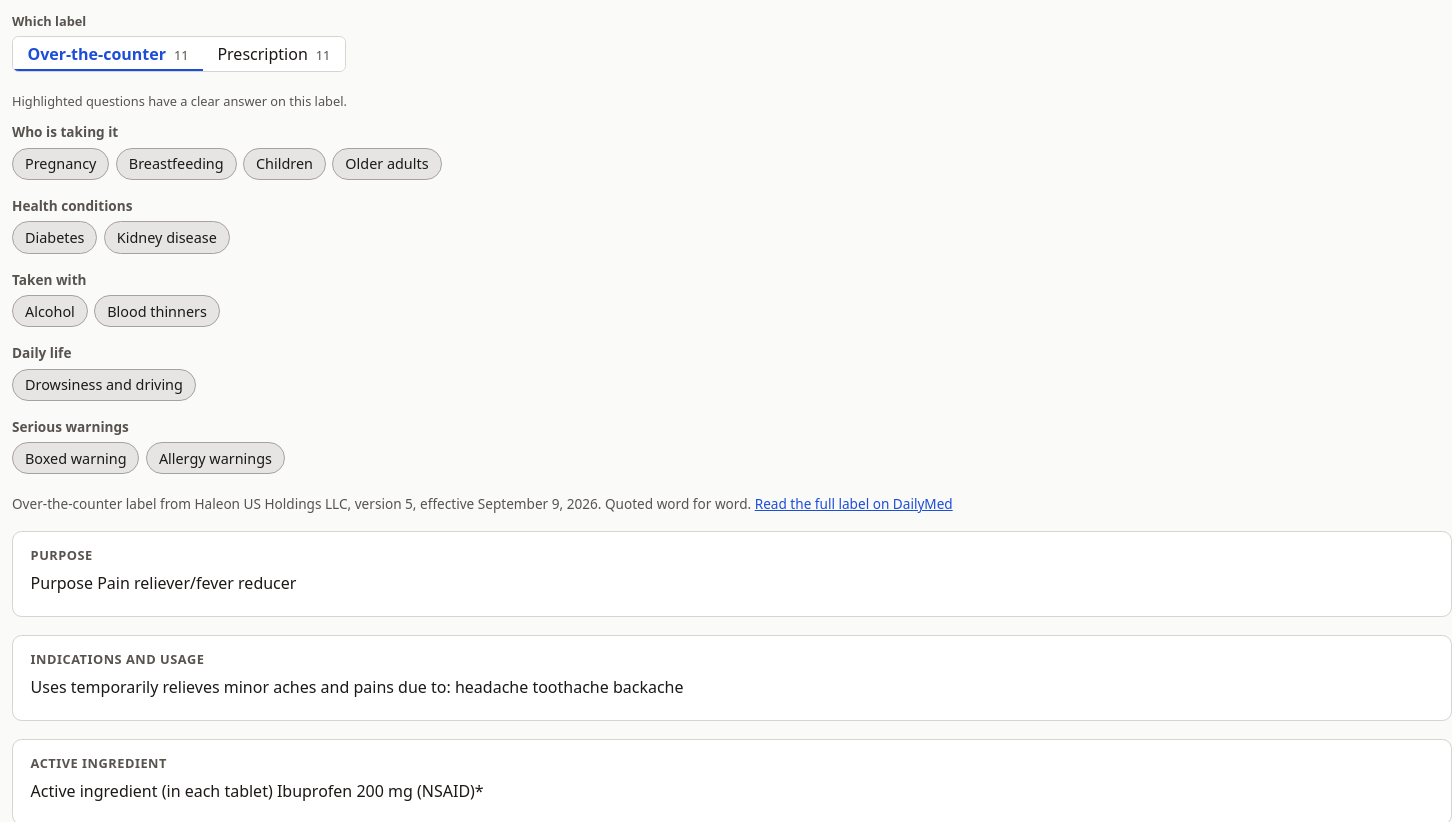
it: DrugAnswers › shows the answer card for the chosen question
Step 1. Click the button "Pregnancy" → point(61, 164), box [12,148,109,180]
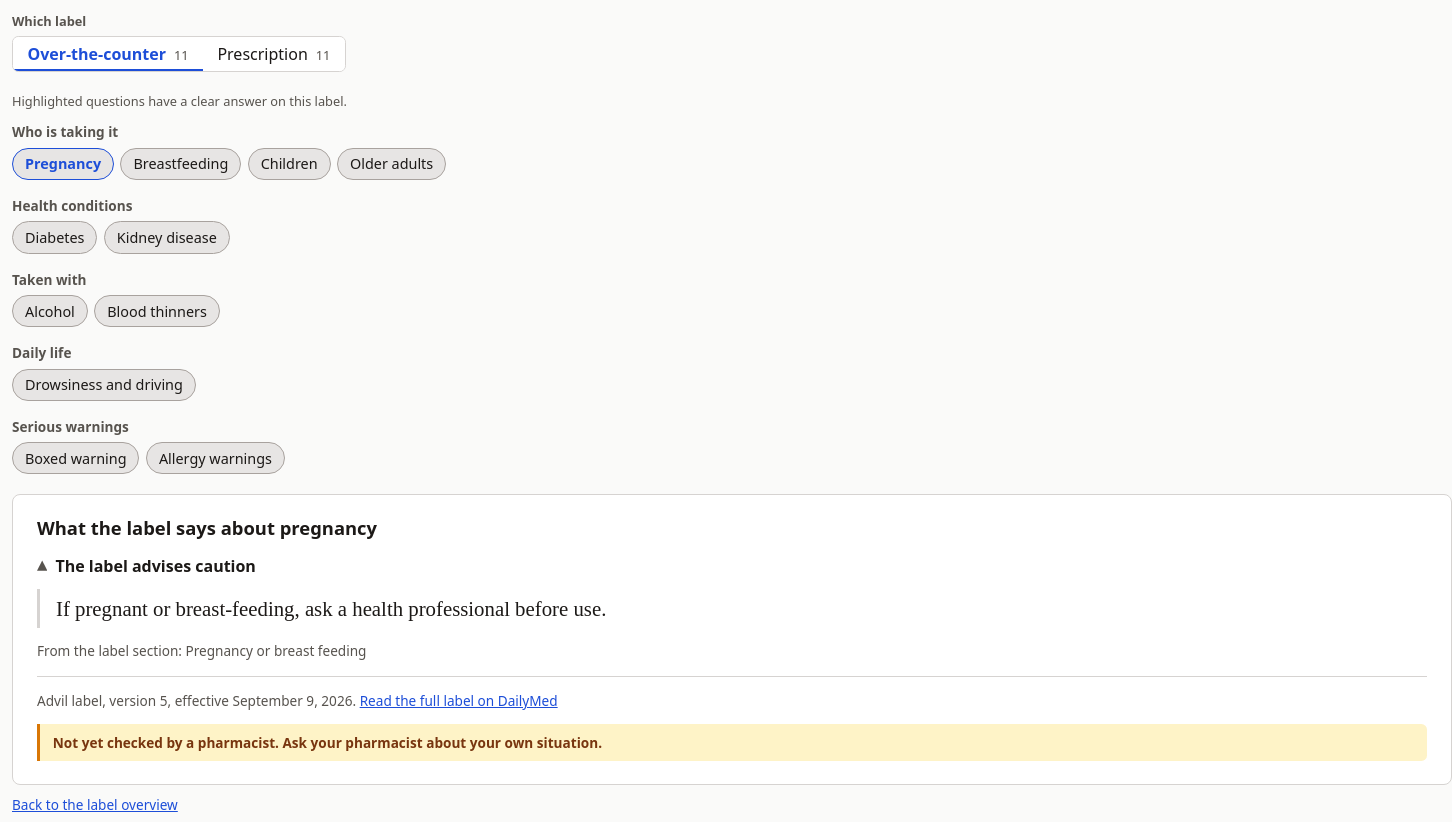
Expected: the heading "What the label says about pregnancy" is shown, [37,515,377,540]
Expected: the text "ask a health professional before use." is shown, [305,597,606,620]
